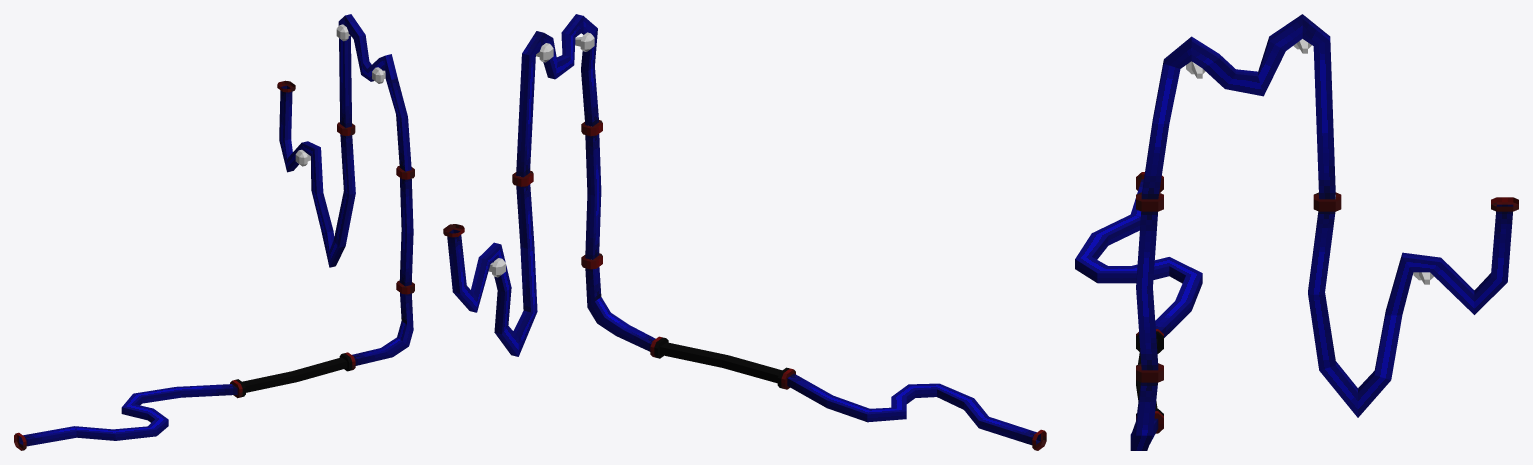
Rendered from smallwires.fbx.
3 renders of one model, left to right at view 1: azimuth 30°, elevation 25°; view 2: azimuth 150°, elevation 25°; view 3: azimuth 270°, elevation 25°, orthographic. The views are drawn at different scales.
Parts seen in each view (by area): view 1: pasted__pCube102, pasted__pCube101, pasted__pCube93, pasted__pCube87, pasted__pCube86, pasted__pCube89; view 2: pasted__pCube102, pasted__pCube93, pasted__pCube101, pasted__pCube87, pasted__pCube86, pasted__pCube89; view 3: pasted__pCube102, pasted__pCube93, pasted__pCube101, pasted__pCube87, pasted__pCube89.
Part boxes in pixels (box(x1,y1,x2,y2)): pasted__pCube102: box(277, 80, 355, 267); pasted__pCube101: box(14, 380, 242, 450); pasted__pCube93: box(337, 14, 414, 176); pasted__pCube87: box(396, 172, 414, 290); pasted__pCube86: box(235, 353, 352, 397); pasted__pCube89: box(345, 286, 414, 370); pasted__pCube102: box(443, 178, 537, 356); pasted__pCube93: box(512, 14, 602, 182); pasted__pCube101: box(781, 368, 1046, 450); pasted__pCube87: box(581, 127, 602, 265); pasted__pCube86: box(654, 337, 789, 388); pasted__pCube89: box(581, 260, 662, 357); pasted__pCube102: box(1308, 197, 1518, 417); pasted__pCube93: box(1136, 14, 1341, 206); pasted__pCube101: box(1075, 172, 1202, 337); pasted__pCube87: box(1136, 204, 1163, 377); pasted__pCube89: box(1130, 375, 1163, 450).
Size of the model in its own units: 6.1 by 4.5 by 4.
